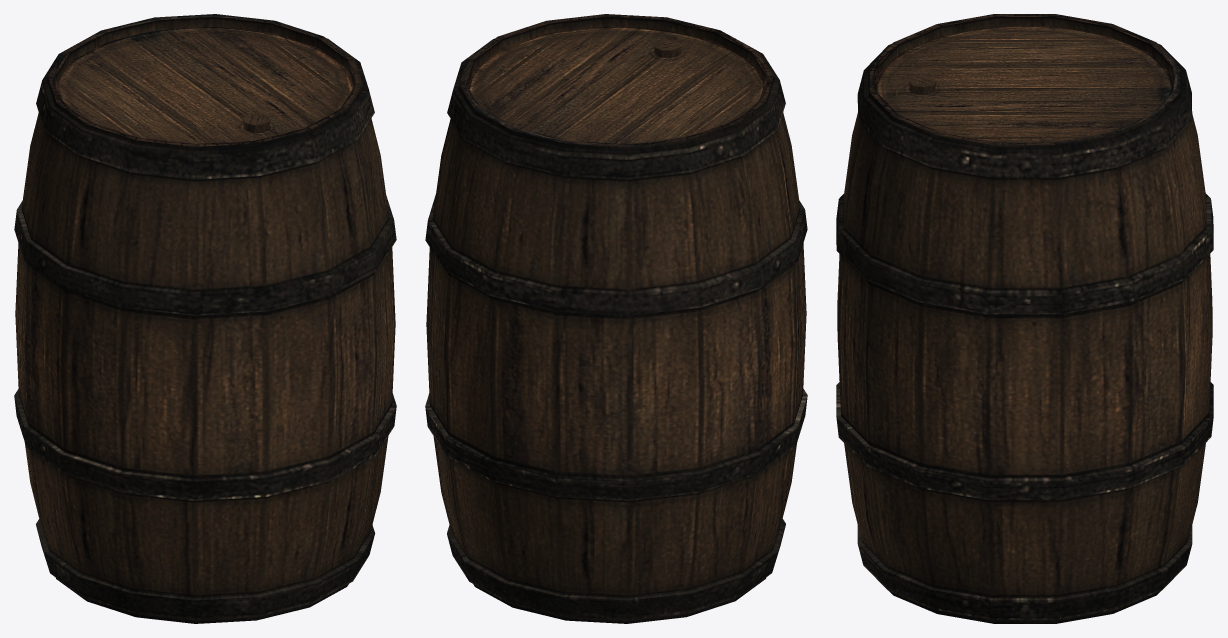
Rendered from wooden_barrel_1.dae.
3 renders of one model, left to right at view 1: azimuth 30°, elevation 25°; view 2: azimuth 150°, elevation 25°; view 3: azimuth 270°, elevation 25°, orthographic.
Visible parts, largest first — view 1: wooden_barrel_1; view 2: wooden_barrel_1; view 3: wooden_barrel_1.
Boxes of the visible parts, x1,y1,x2,y2 form: wooden_barrel_1: (14,14,396,623); wooden_barrel_1: (425,14,807,623); wooden_barrel_1: (836,14,1213,623).
Bounding box in the file's own units: 0.7863 × 0.7863 × 1.1.
1 material, 1 textured.
